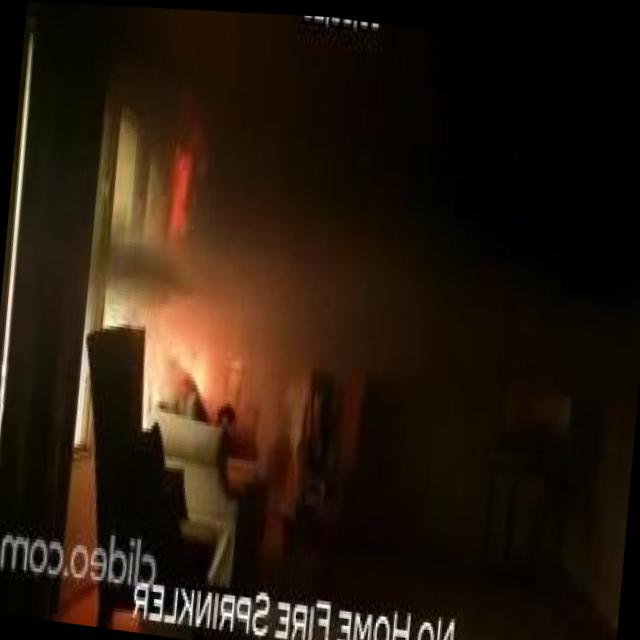fire: (155, 320, 220, 402), (164, 138, 196, 248)
